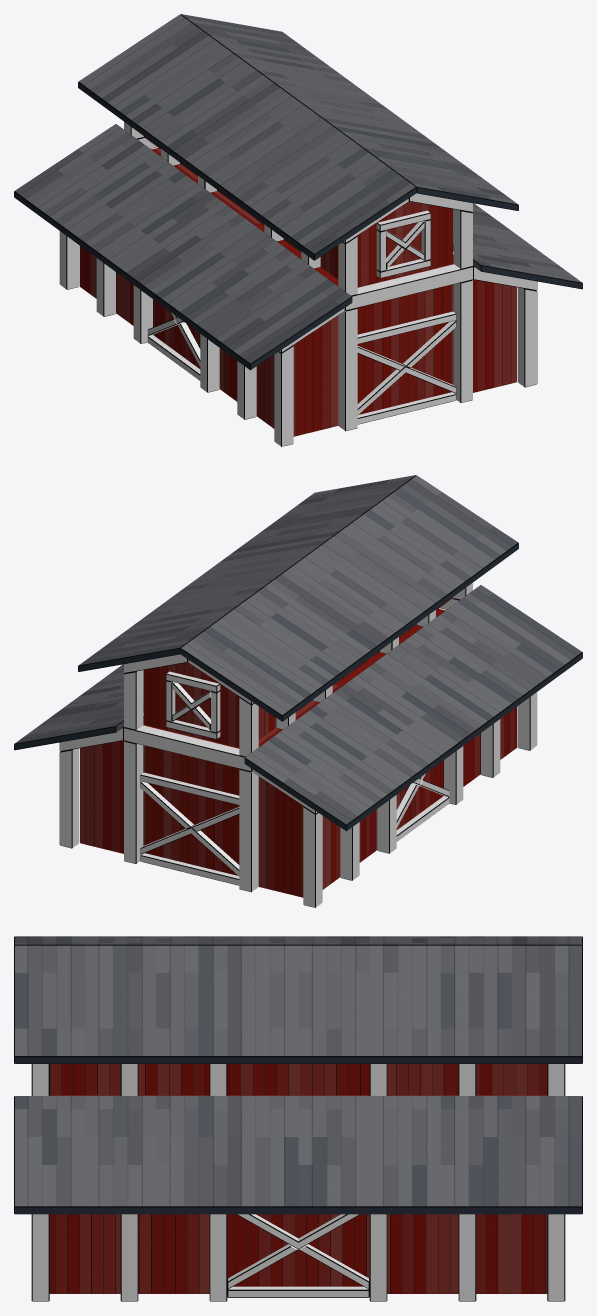
Rendered from SF_1_Barn.fbx.
3 renders of one model, top to bottom at view 1: azimuth 30°, elevation 25°; view 2: azimuth 150°, elevation 25°; view 3: azimuth 270°, elevation 25°, orthographic. The views are drawn at different scales.
Parts seen in each view (by area): view 1: Base; view 2: Base; view 3: Base.
Part boxes in pixels (bbox=[...]): Base: bbox=[14, 14, 582, 446]; Base: bbox=[14, 475, 582, 907]; Base: bbox=[14, 936, 582, 1301].
Size of the model in its own units: 3200 by 2600 by 1748.
